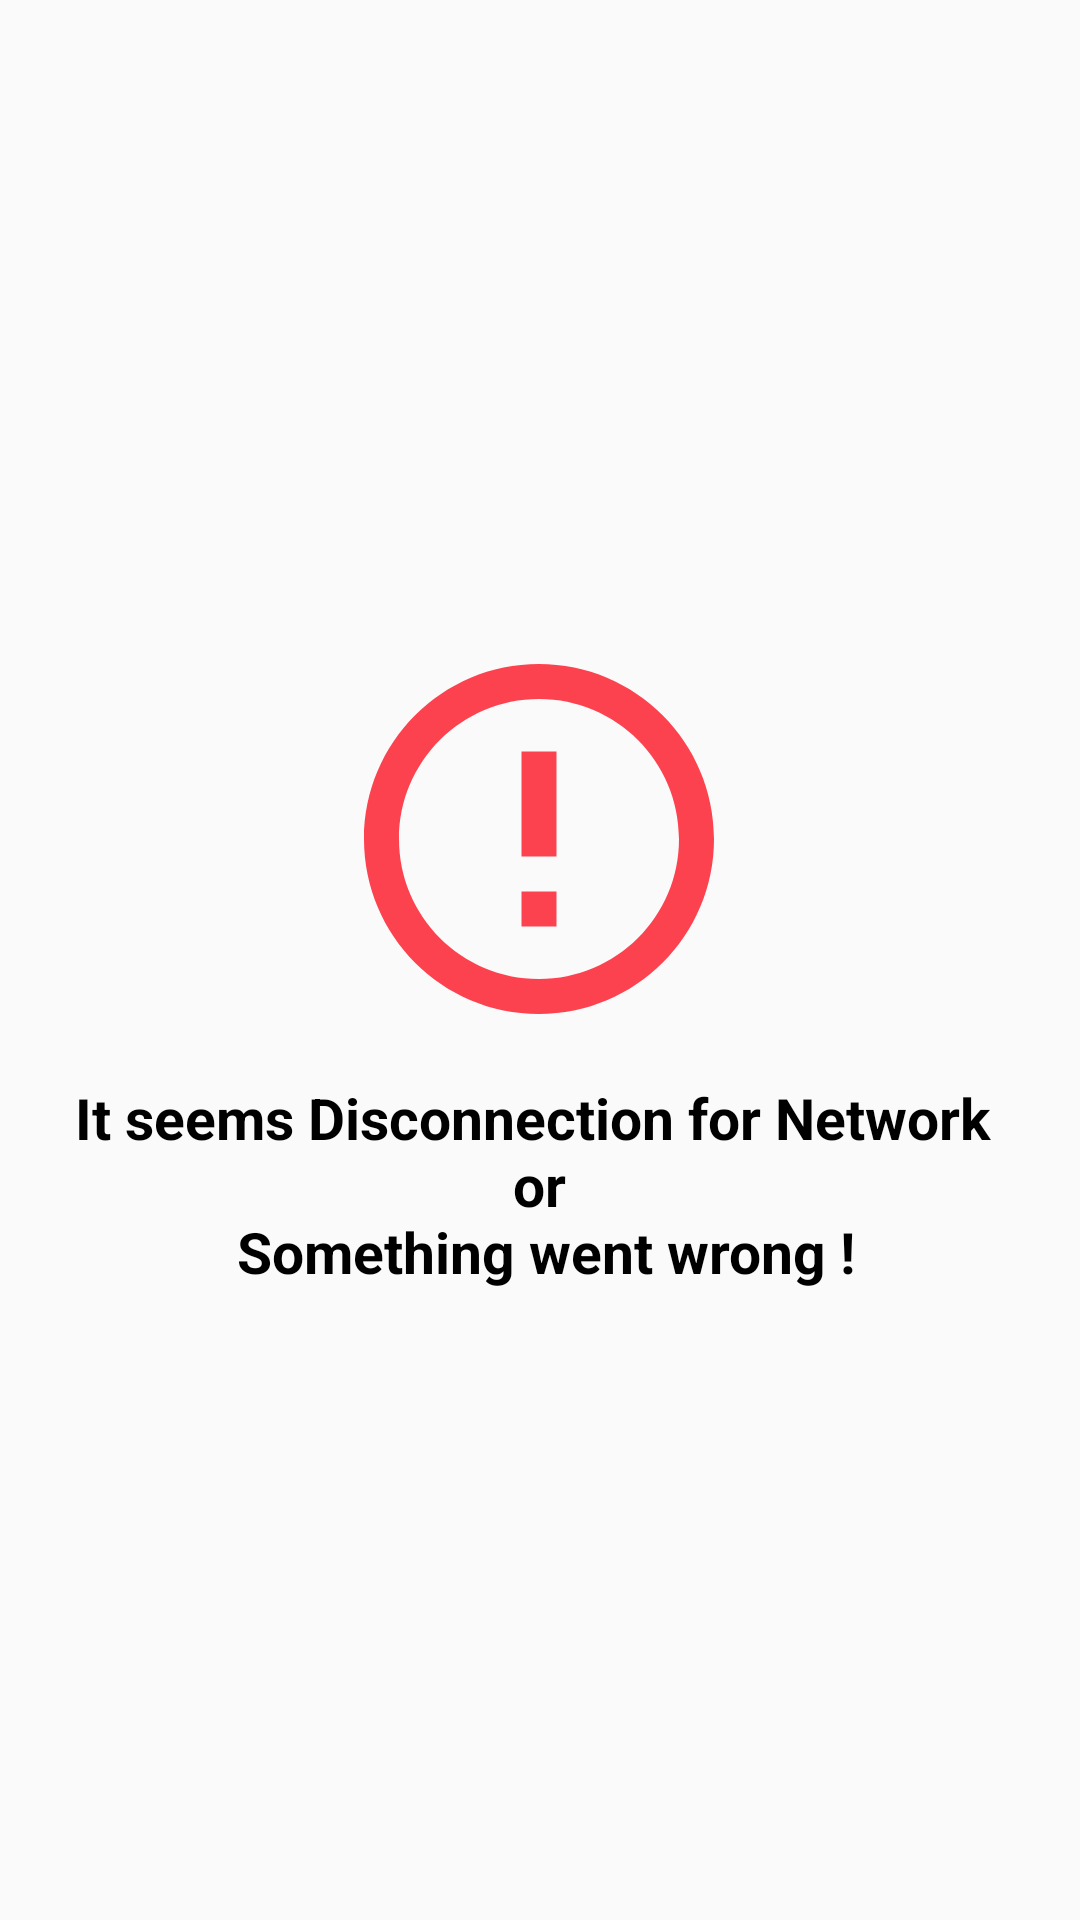

Named icons in this screenshot (1080w x 1920h) and their bounding boxes, (x1, y1, x2, y2):
error: (364, 664, 714, 1014)
